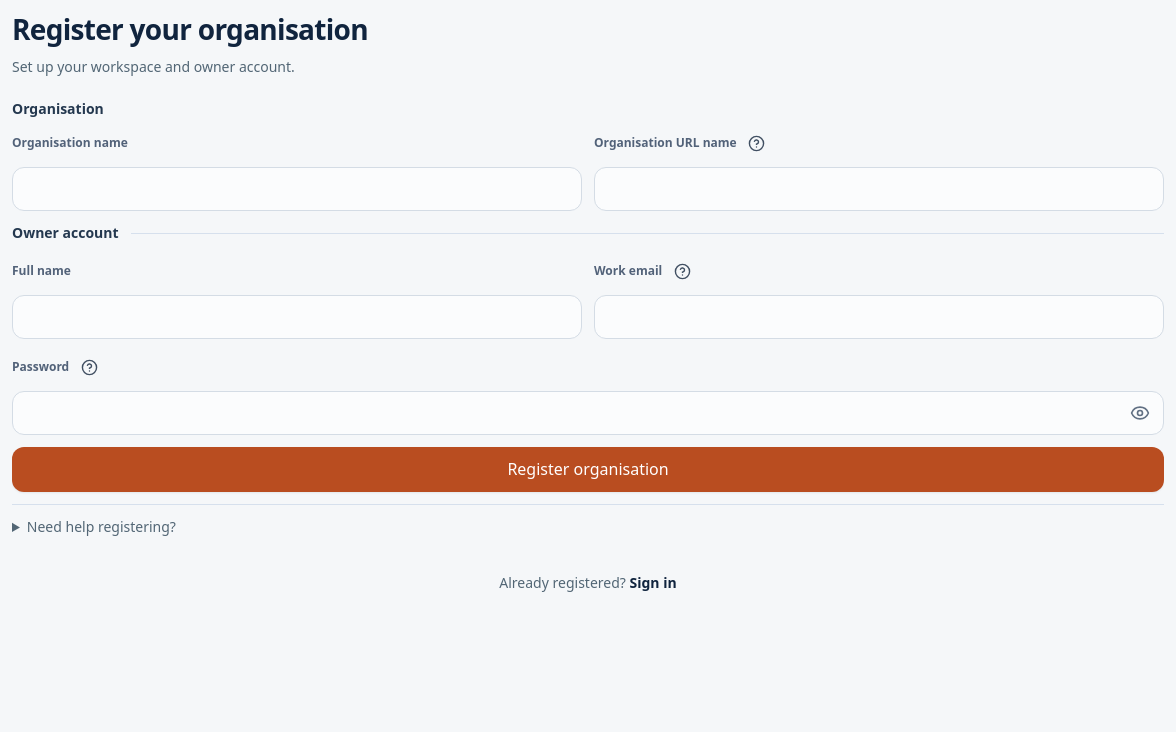
authentication guidance › places registration hints behind field icons and retains sign-in recovery actions
Check: the text "Lowercase letters" is not shown
Click the button named "Organisation URL name guidance": click(757, 143) [741,127,773,159]
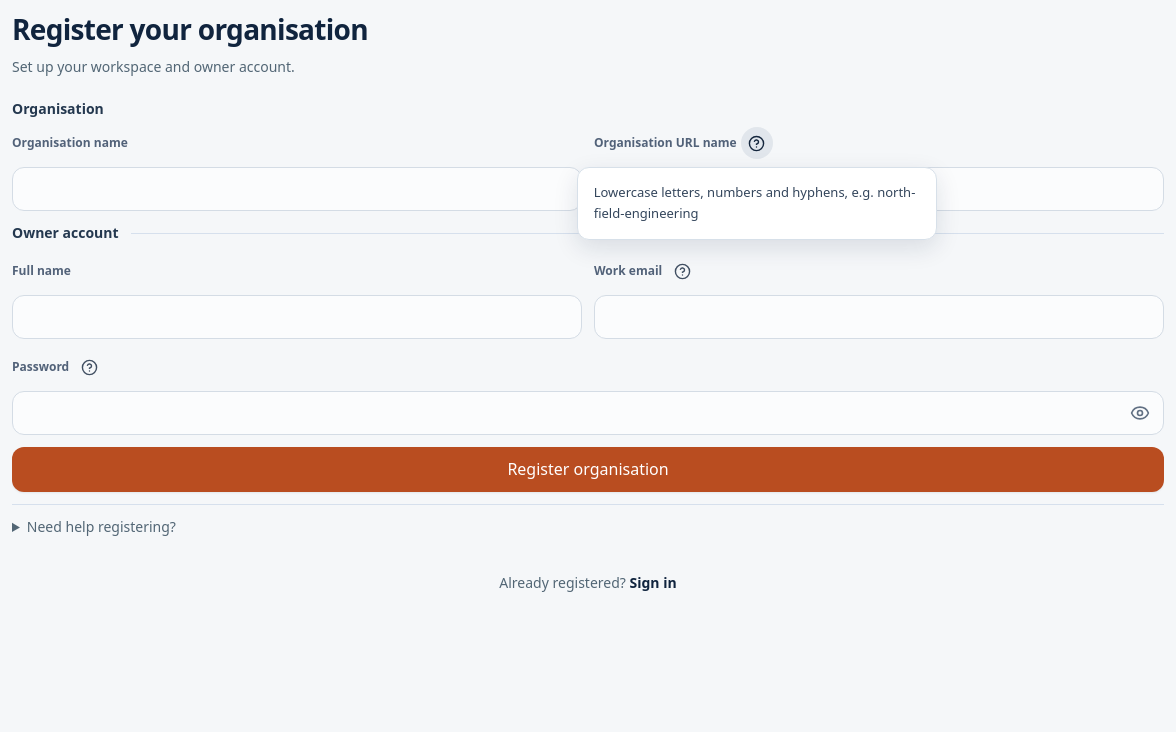
Check: the tooltip shows "Lowercase letters", box [594,183,915,222]
Press Escape in the button named "Organisation URL name guidance", box [741,127,773,159]
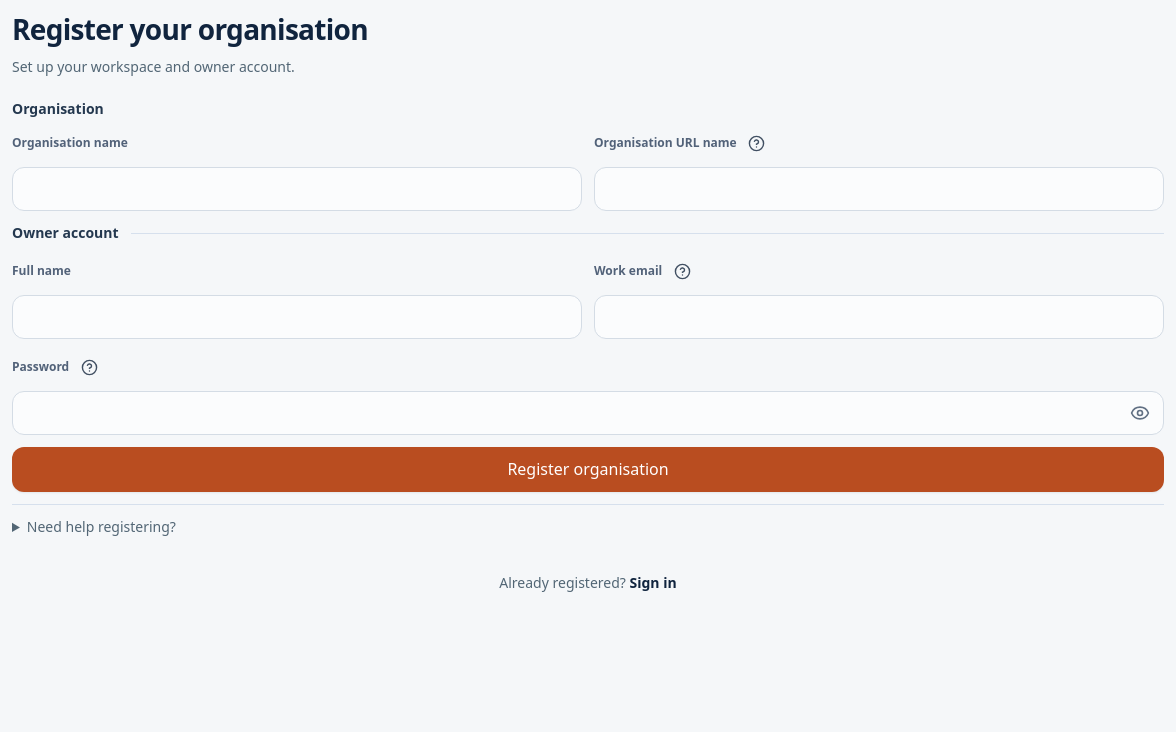
Click the heading "Need help registering?": click(101, 526) [27,517,176,536]
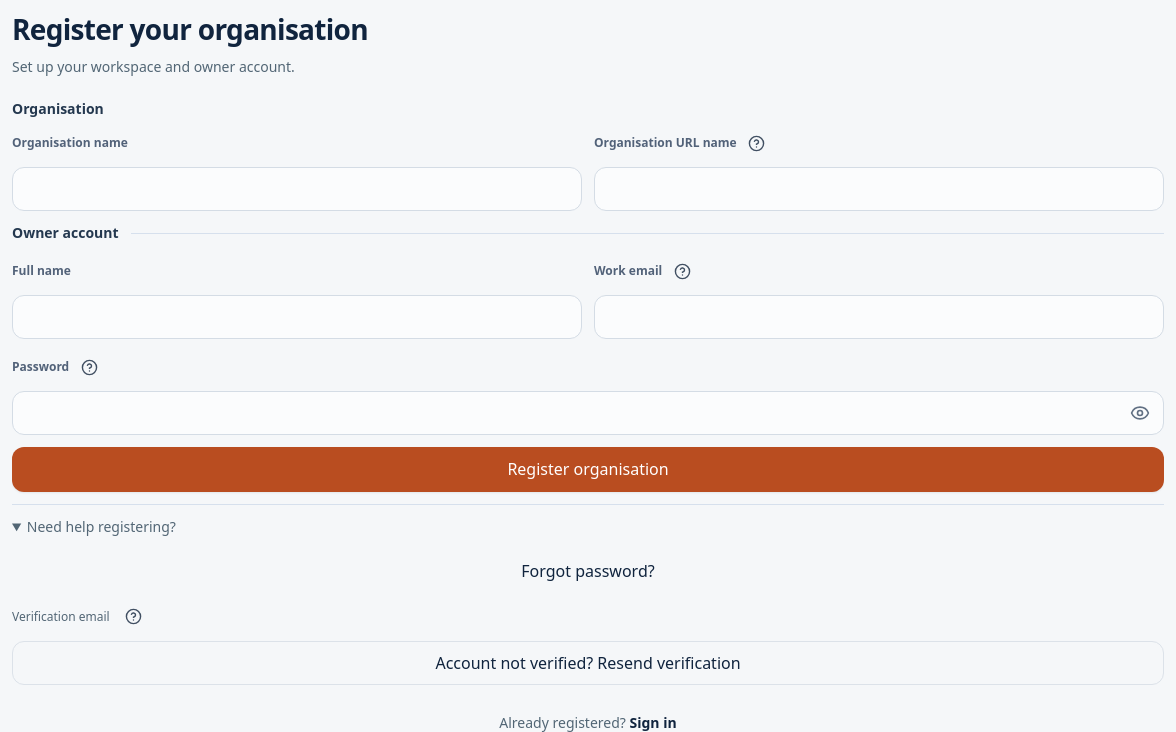
Check: the button "Forgot password?" is shown, box [509,549,667,593]
Check: the button "Account not verified? Resend verification" is shown, box [12,641,1164,685]
Click the button named "Sign-in help": click(134, 617) [118,601,150,633]
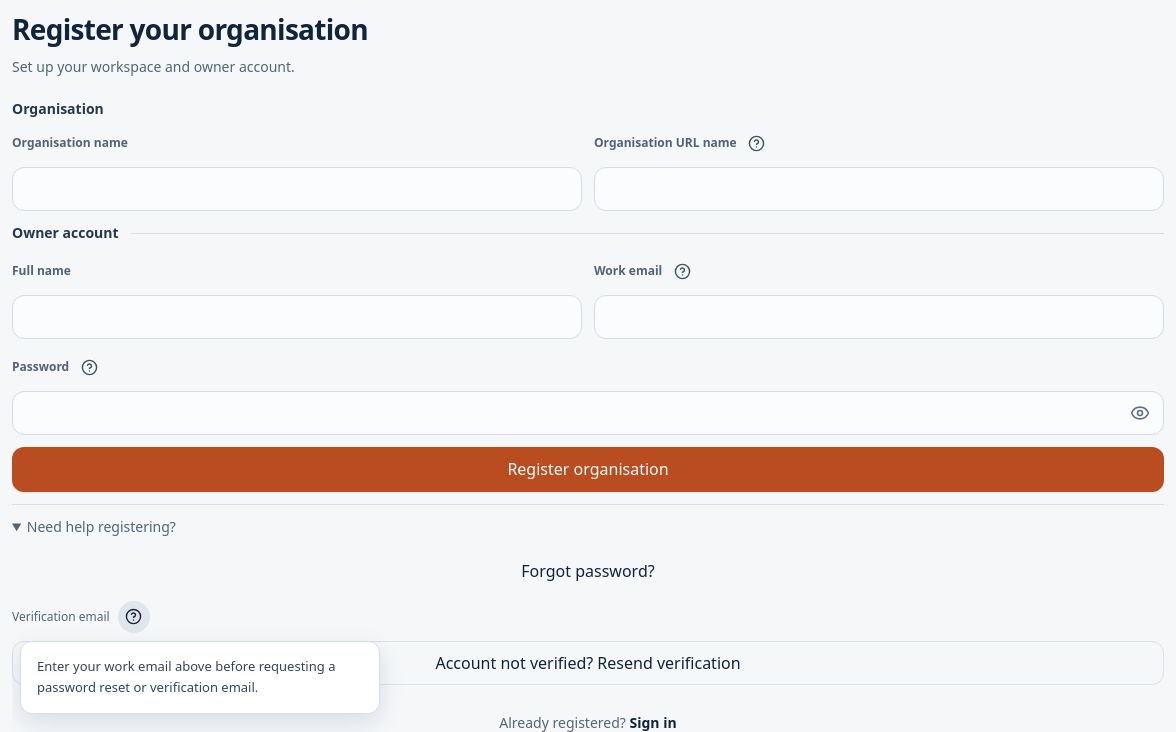
Check: the tooltip shows "Enter your work email above before requesting a password reset or verification email.", box [37,657,335,696]
